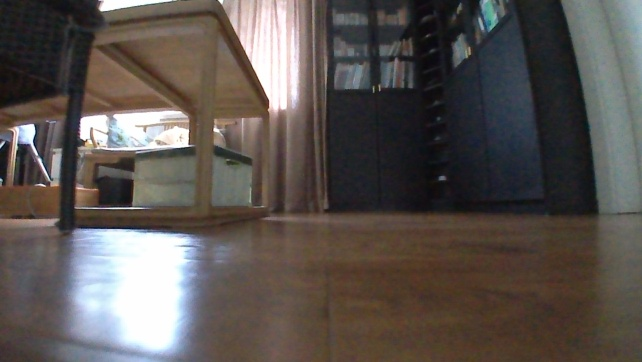wire: (23, 182, 47, 220)
